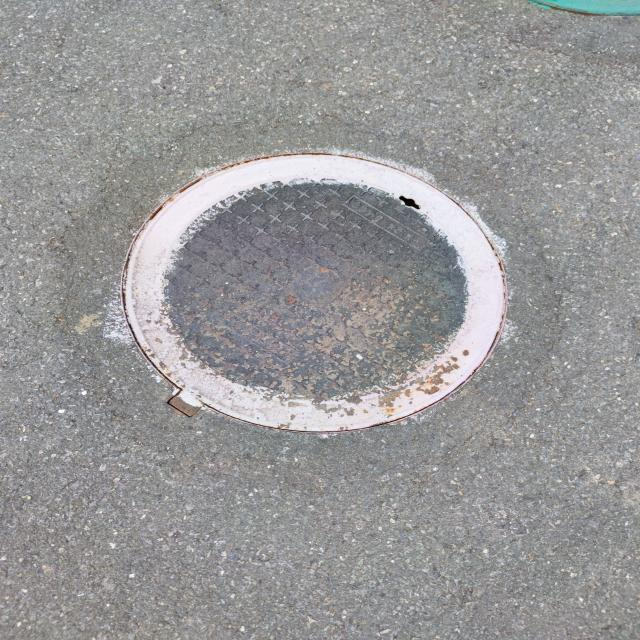Good: (119, 148, 517, 438)
